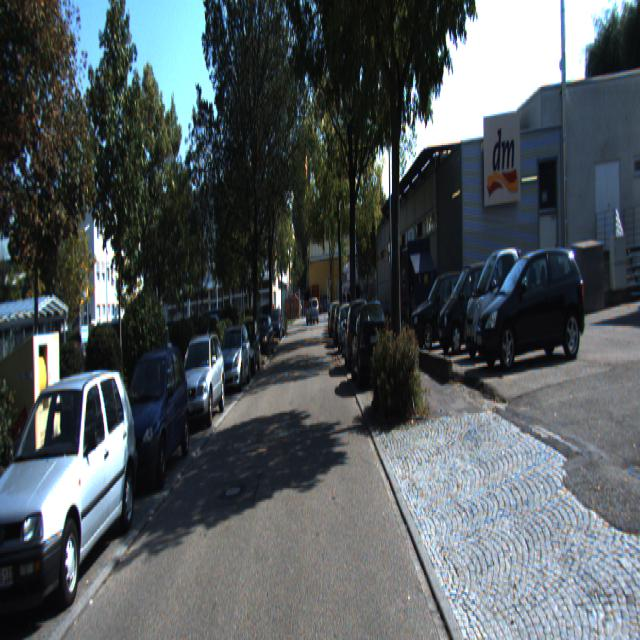Car: (0, 356, 144, 627), (473, 242, 590, 380), (112, 339, 194, 494), (460, 242, 534, 366), (434, 251, 510, 357), (408, 266, 476, 354), (173, 331, 227, 434), (350, 299, 390, 392), (216, 322, 252, 393), (344, 297, 372, 374)
